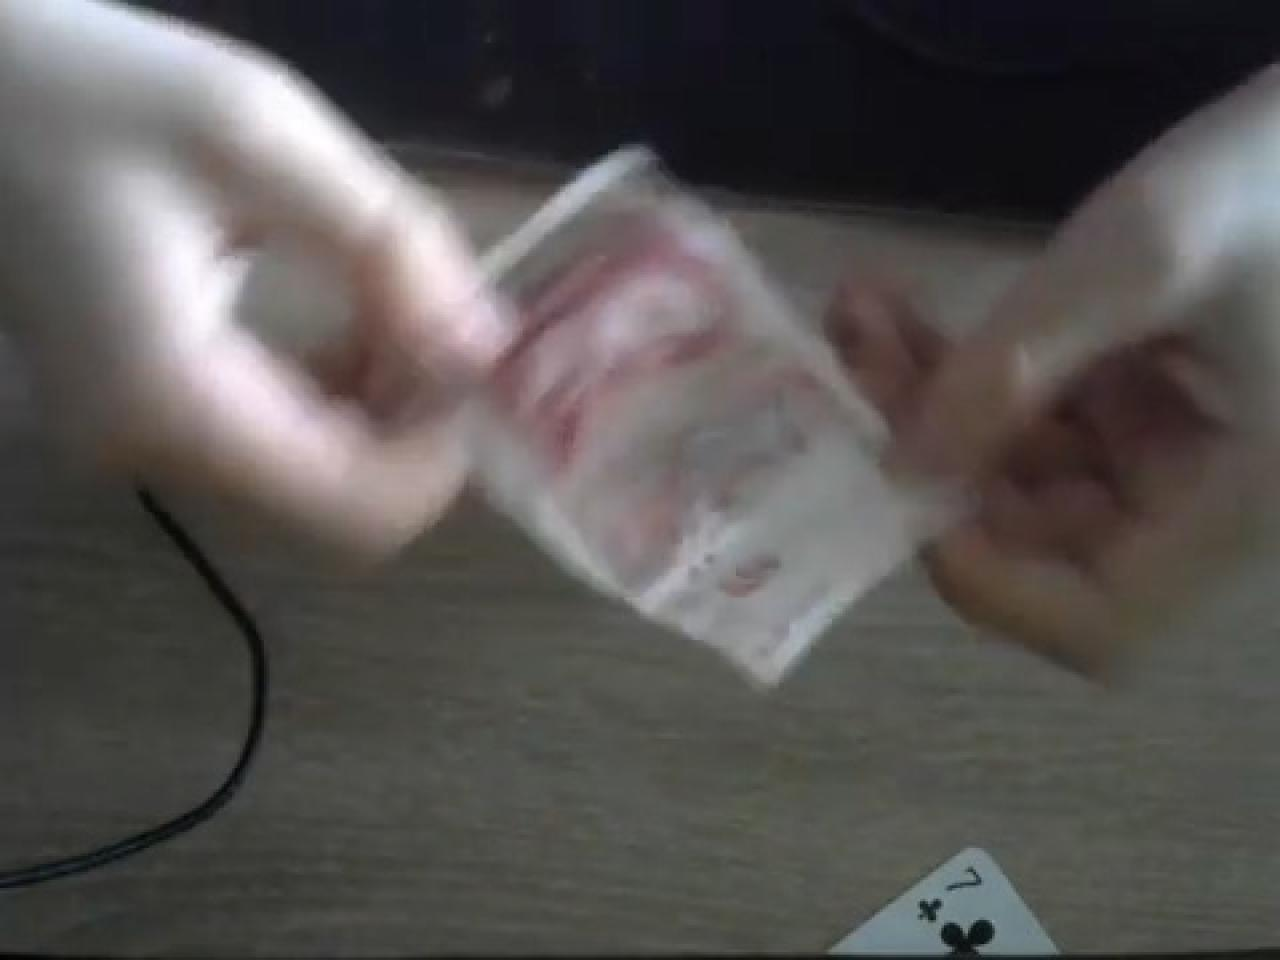5leva: (467, 146, 954, 694)
